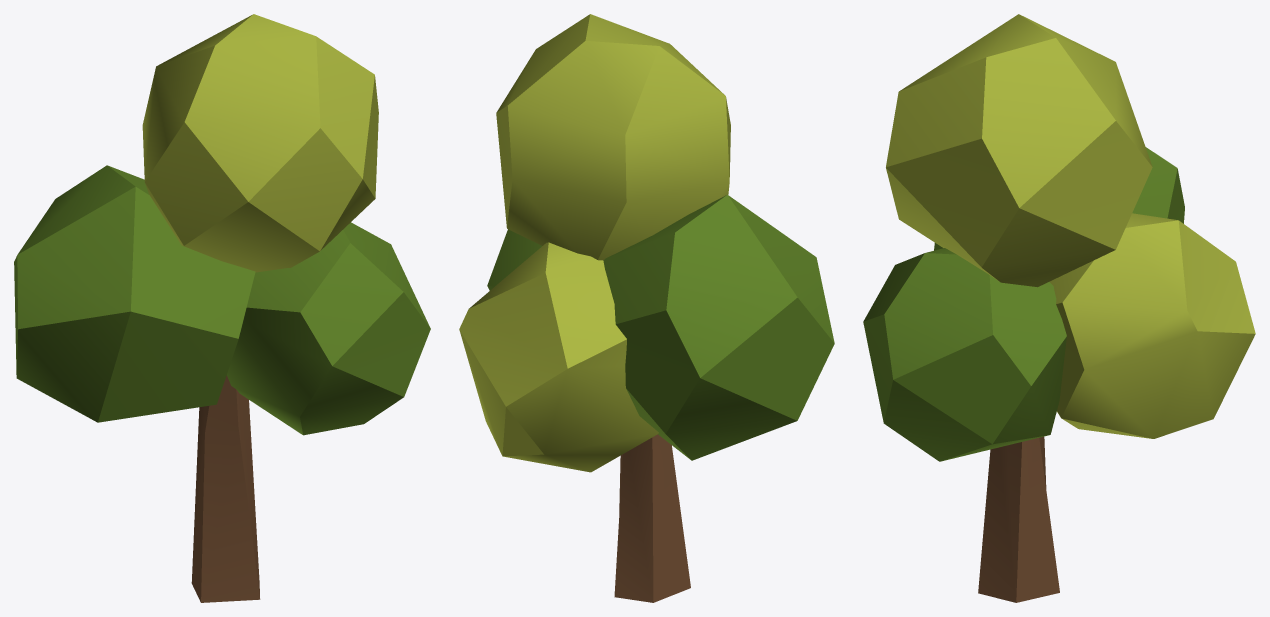
The model's file is Tree Big 1 Fractured.fbx.
The picture shows the model from 3 angles, left to right: view 1: azimuth 30°, elevation 25°; view 2: azimuth 150°, elevation 25°; view 3: azimuth 270°, elevation 25°; orthographic projection. The views are drawn at different scales.
Parts seen in each view (by area): view 1: Tree_Big_01_Breaking.001, Tree_Big_01_Breaking, Tree_Big_01_Breaking.002, Tree_Big_01_Breaking.003; view 2: Tree_Big_01_Breaking.001, Tree_Big_01_Breaking, Tree_Big_01_Breaking.004, Tree_Big_01_Breaking.003, Tree_Big_01_Breaking.002; view 3: Tree_Big_01_Breaking.001, Tree_Big_01_Breaking.004, Tree_Big_01_Breaking.002, Tree_Big_01_Breaking.003, Tree_Big_01_Breaking.
Part boxes in pixels (left/top/right/bottom): Tree_Big_01_Breaking.001: left=142, top=14, right=378, bottom=272; Tree_Big_01_Breaking: left=14, top=165, right=255, bottom=422; Tree_Big_01_Breaking.002: left=227, top=222, right=430, bottom=435; Tree_Big_01_Breaking.003: left=191, top=375, right=260, bottom=602; Tree_Big_01_Breaking.001: left=496, top=14, right=730, bottom=260; Tree_Big_01_Breaking: left=603, top=194, right=834, bottom=460; Tree_Big_01_Breaking.004: left=459, top=242, right=658, bottom=472; Tree_Big_01_Breaking.003: left=614, top=434, right=690, bottom=602; Tree_Big_01_Breaking.002: left=487, top=229, right=541, bottom=290; Tree_Big_01_Breaking.001: left=886, top=14, right=1152, bottom=287; Tree_Big_01_Breaking.004: left=1049, top=213, right=1255, bottom=438; Tree_Big_01_Breaking.002: left=863, top=248, right=1066, bottom=461; Tree_Big_01_Breaking.003: left=978, top=436, right=1059, bottom=602; Tree_Big_01_Breaking: left=934, top=147, right=1184, bottom=250.
Bounding box in the file's own units: 195 × 290 × 180.
